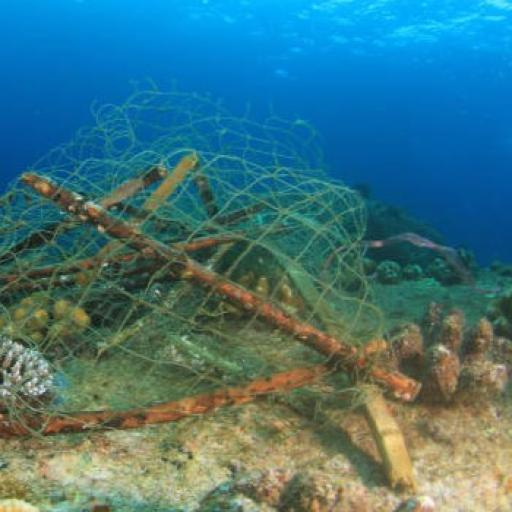net: (1, 87, 382, 436)
